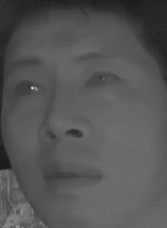eye: (83, 66, 123, 94), (10, 75, 47, 102)
mouth: (38, 155, 108, 193)
